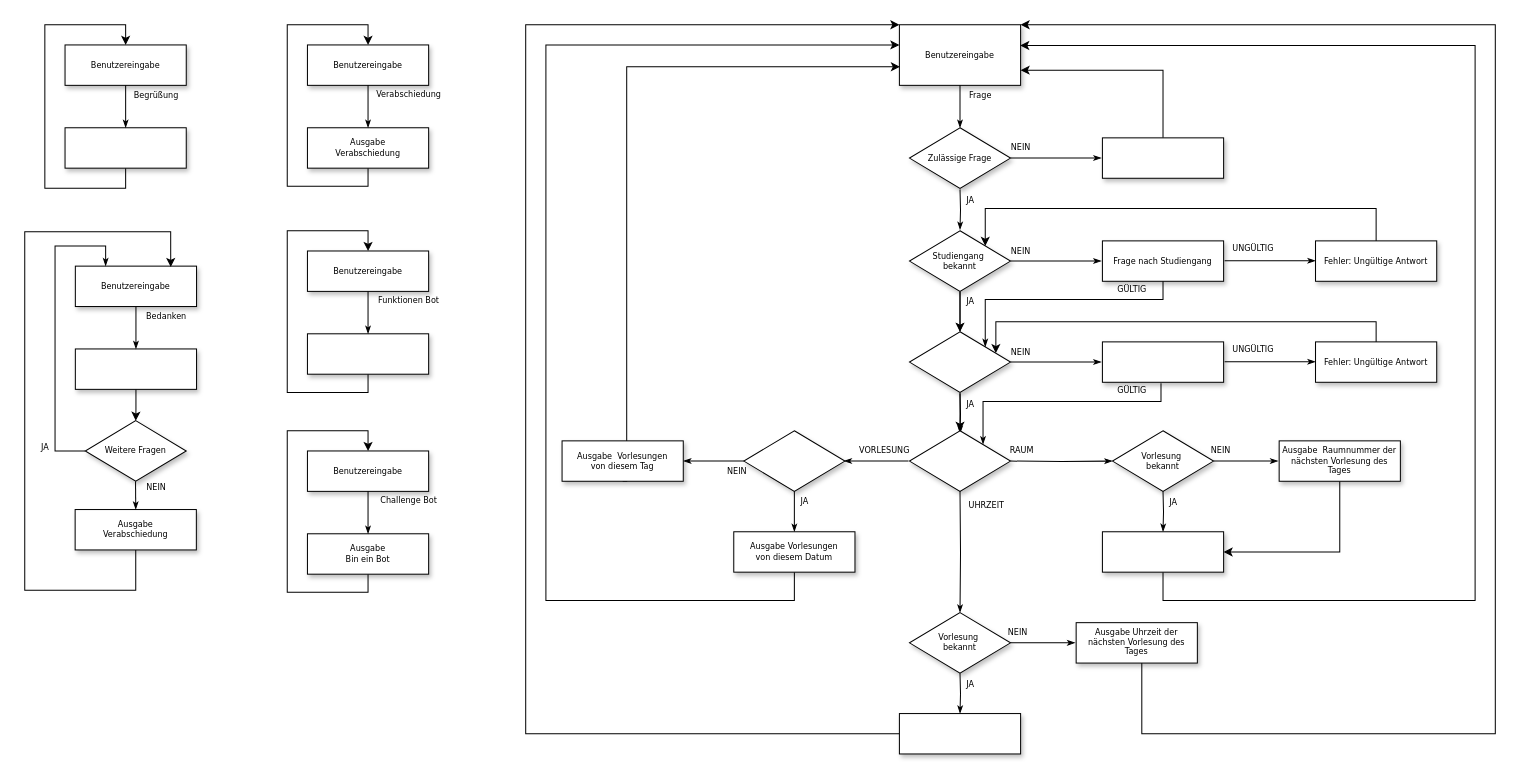
This 1521x779 diagram has some shape labels left out. The centre of each missing label's shape, as x and y in pixels:
Absicht: the point at 960,462
Ausgabe Begrüßung/Wie kann ich helfen: the point at 126,149
Ausgabe Bot Funktionen: the point at 368,355
Ausgabe Kann ich sonst noch helfen: the point at 136,370
Ausgabe Raumnummer dieser Vorlesung: the point at 1163,553
Ausgabe Uhrzeit der gewünschten Vorlesung: the point at 960,735
Fehler: Unzulässige Frage: the point at 1163,159
Frage nach Semester: the point at 1163,363
Semester bekannt: the point at 960,363
Spezielles Datum: the point at 795,462
